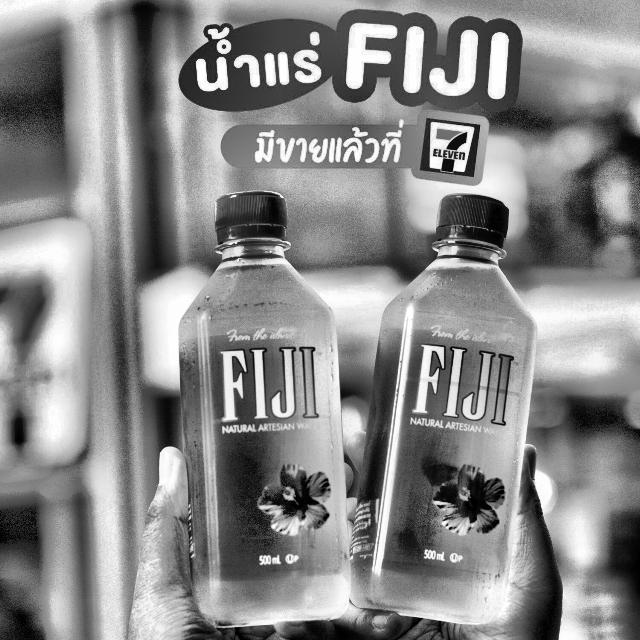waterbottle: (352, 194, 537, 625), (179, 192, 349, 627)
